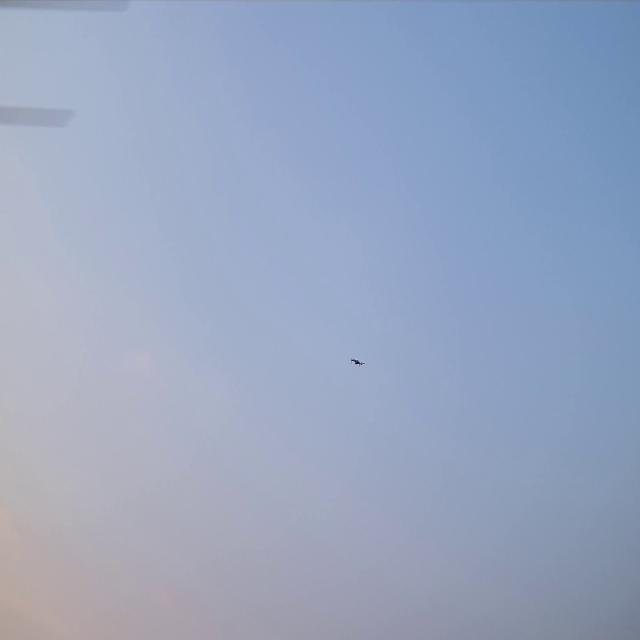UAV: (351, 358, 363, 364)
